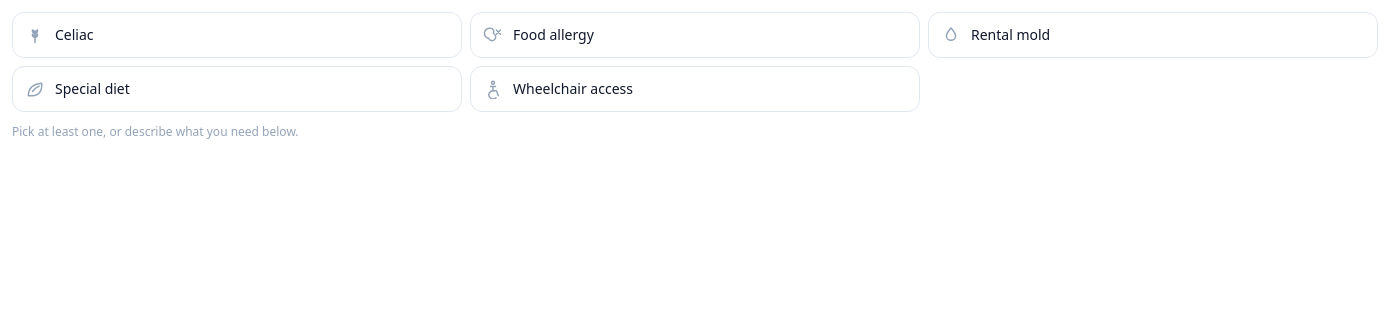
Scenario: <RequirementChips /> › selecting Celiac + Food allergy yields chipIds ['celiac','allergy'] in catalog order
What coordinates should you click on to do the following:
click the button "Food allergy"
I would click on:
 (553, 35)
Its box is [470,12,920,58].
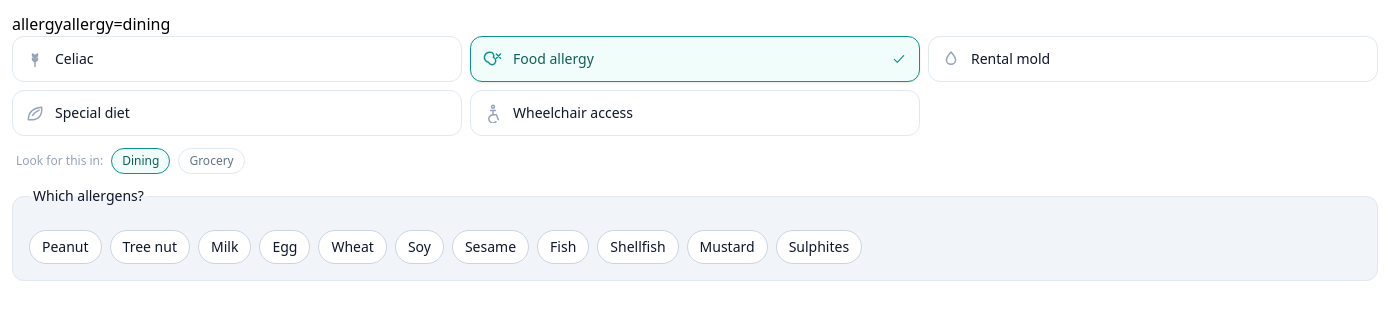
What coordinates should you click on to do the following:
click the button "Celiac"
I would click on:
 (74, 59)
Its box is [12,36,462,82].
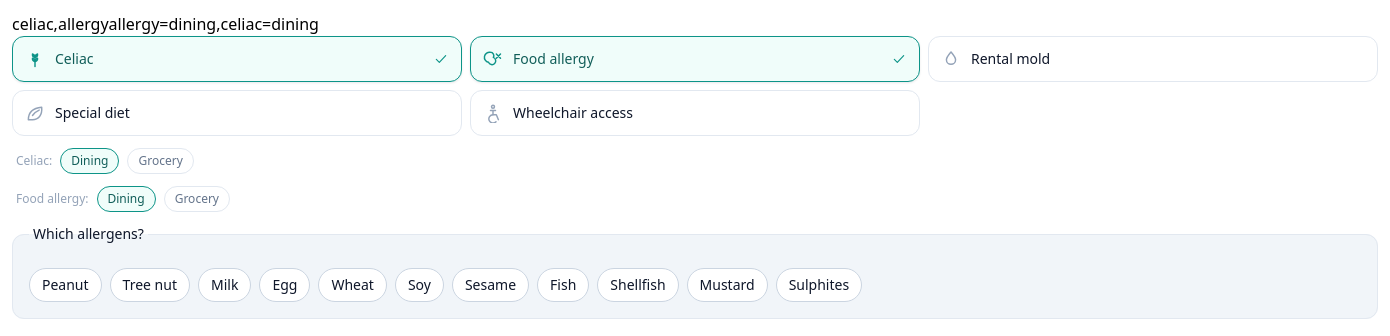
Now the text with test id "chip-ids" reads "celiac,allergy", box [12,13,109,35]
